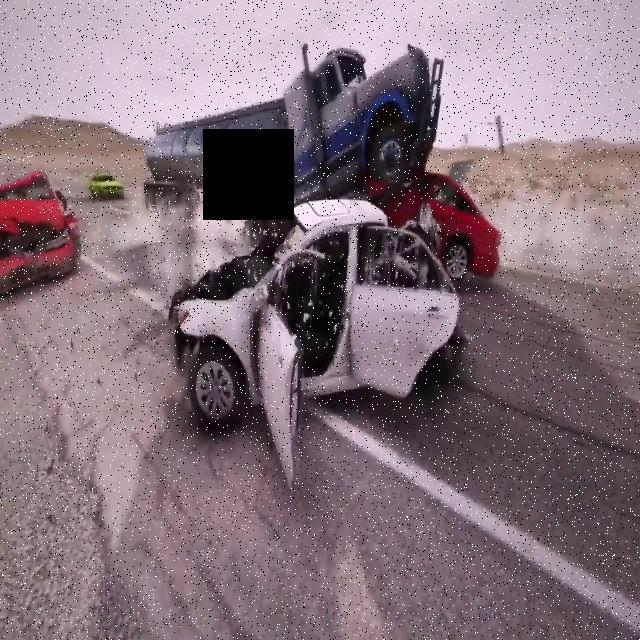multiple_accident: (133, 40, 537, 460), (0, 123, 95, 337)
